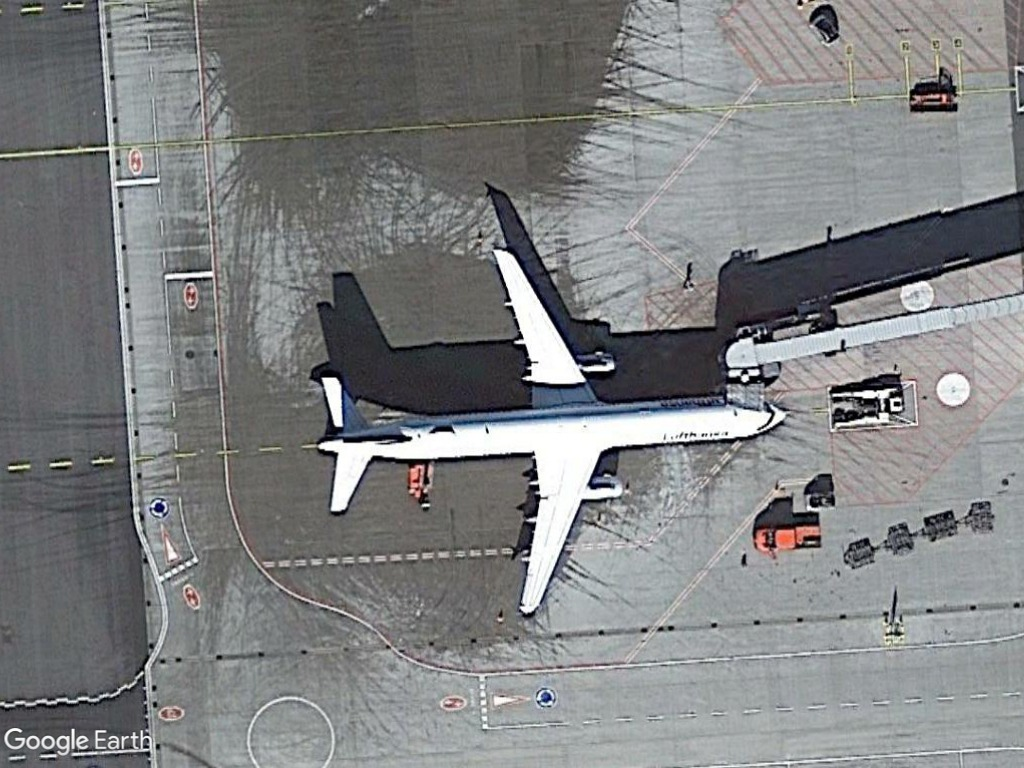airliner: (301, 240, 801, 621)
pushbacktruck: (828, 382, 903, 433)
